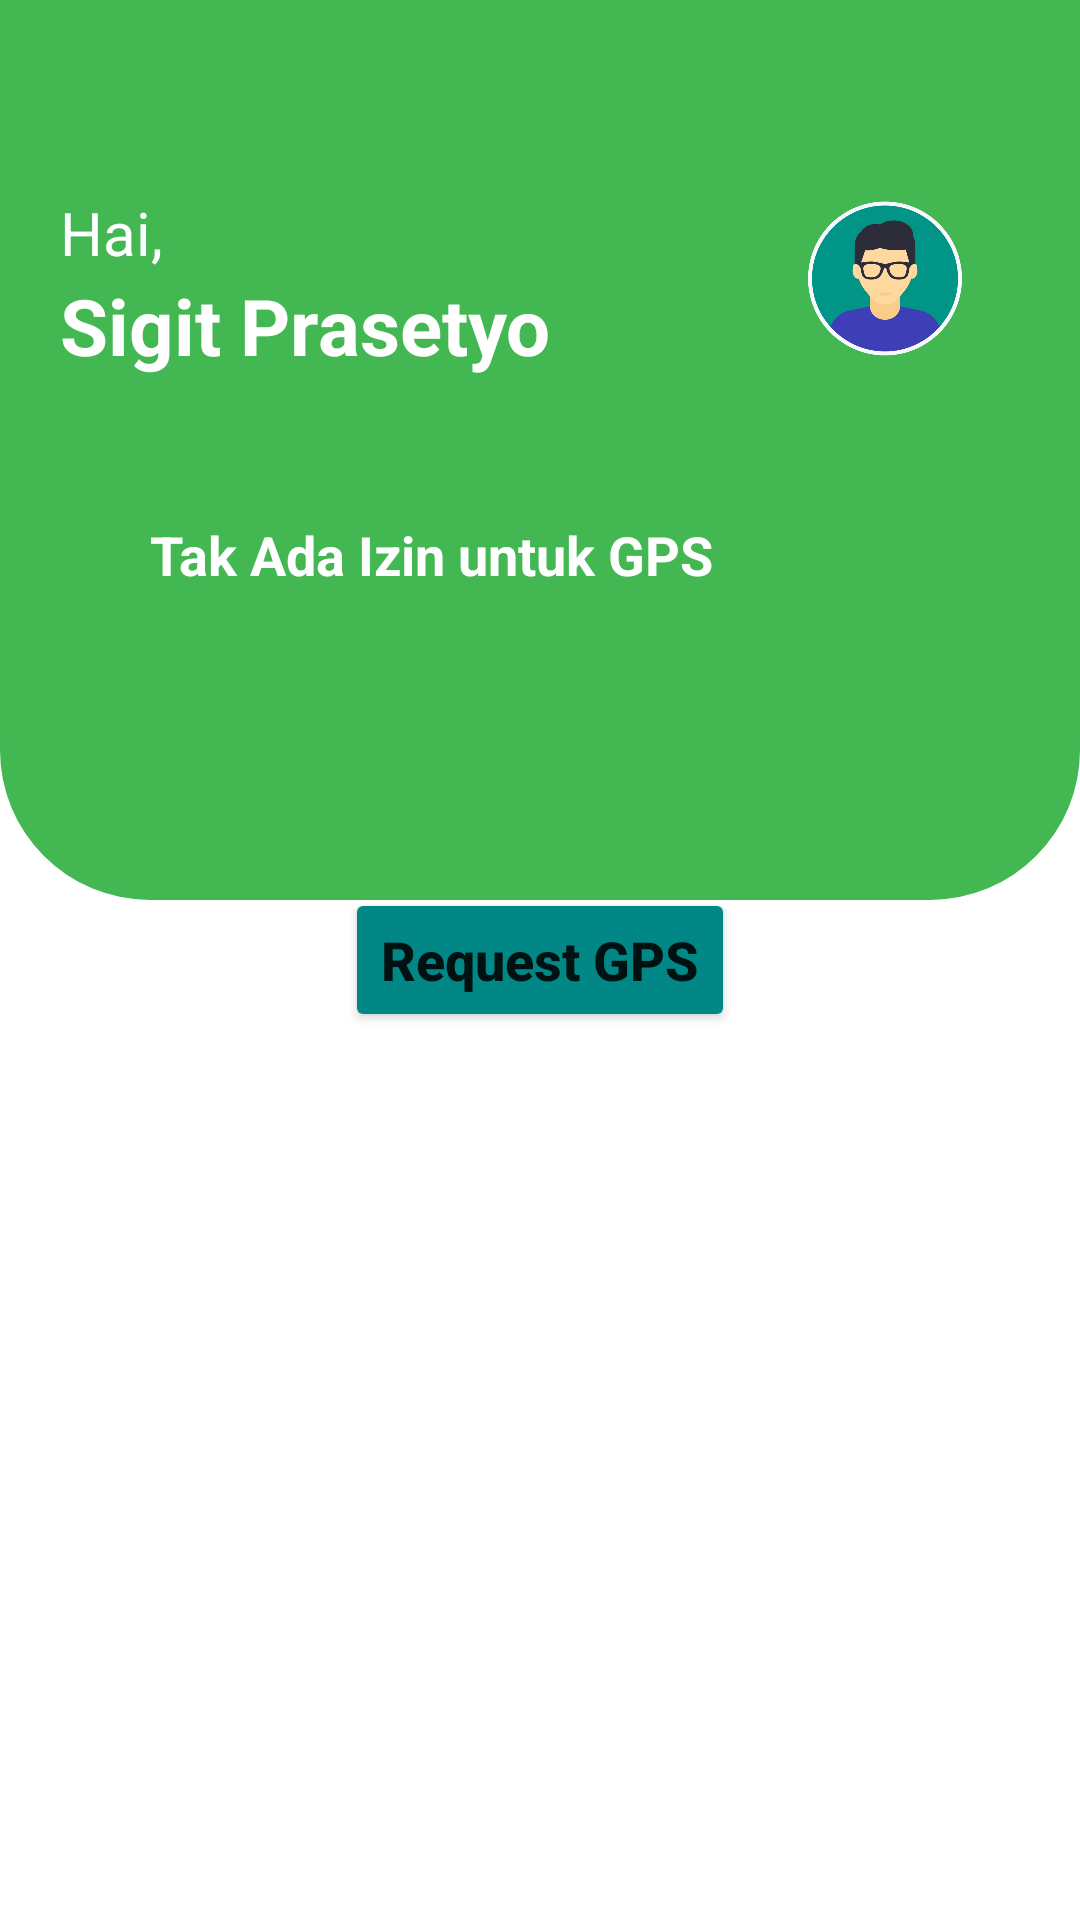

Icon click points for this 1080 x 1920 phone screenshot, format [x,y]:
profile: [885,278]
